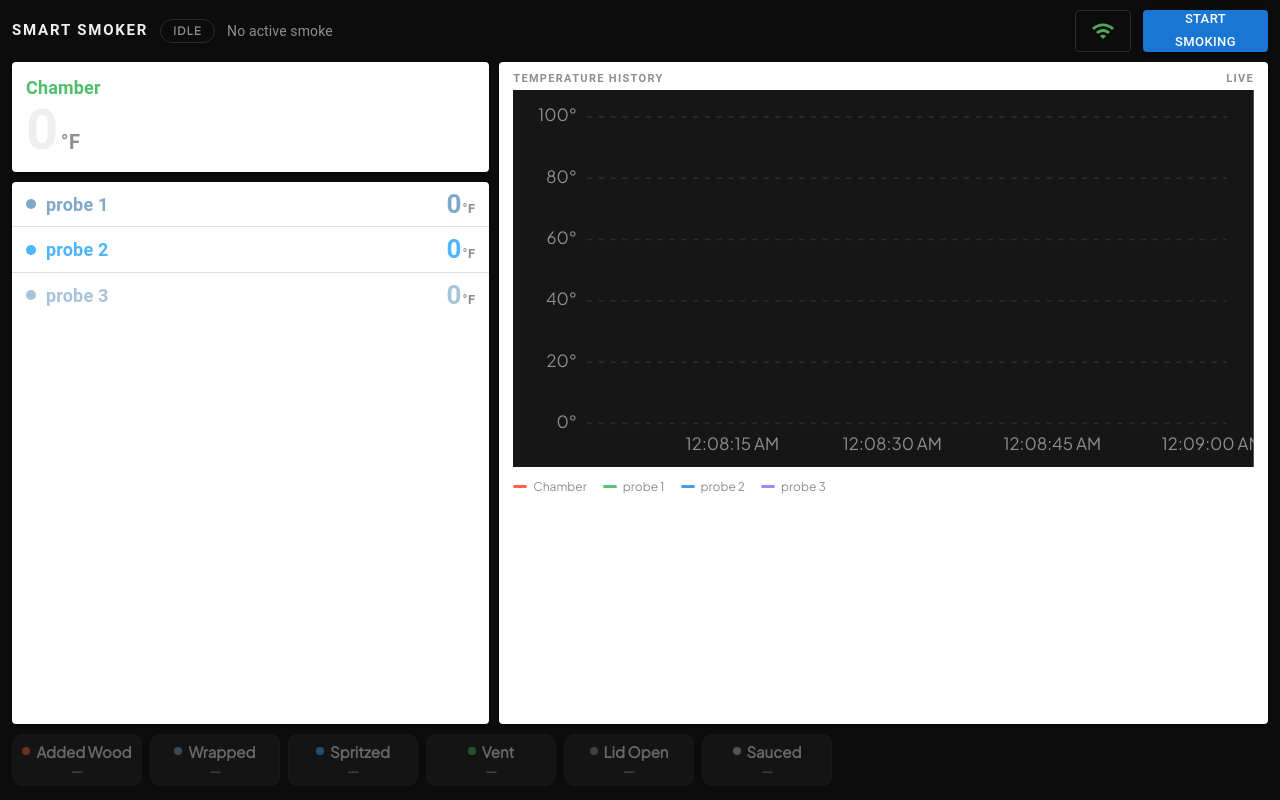
Test case: Home — starting a cook over an auto-stopped one › asks before lighting the smoker, and lights nothing until it is answered
Click the button "Start Smoking": (1206, 31) [1143,10,1268,52]
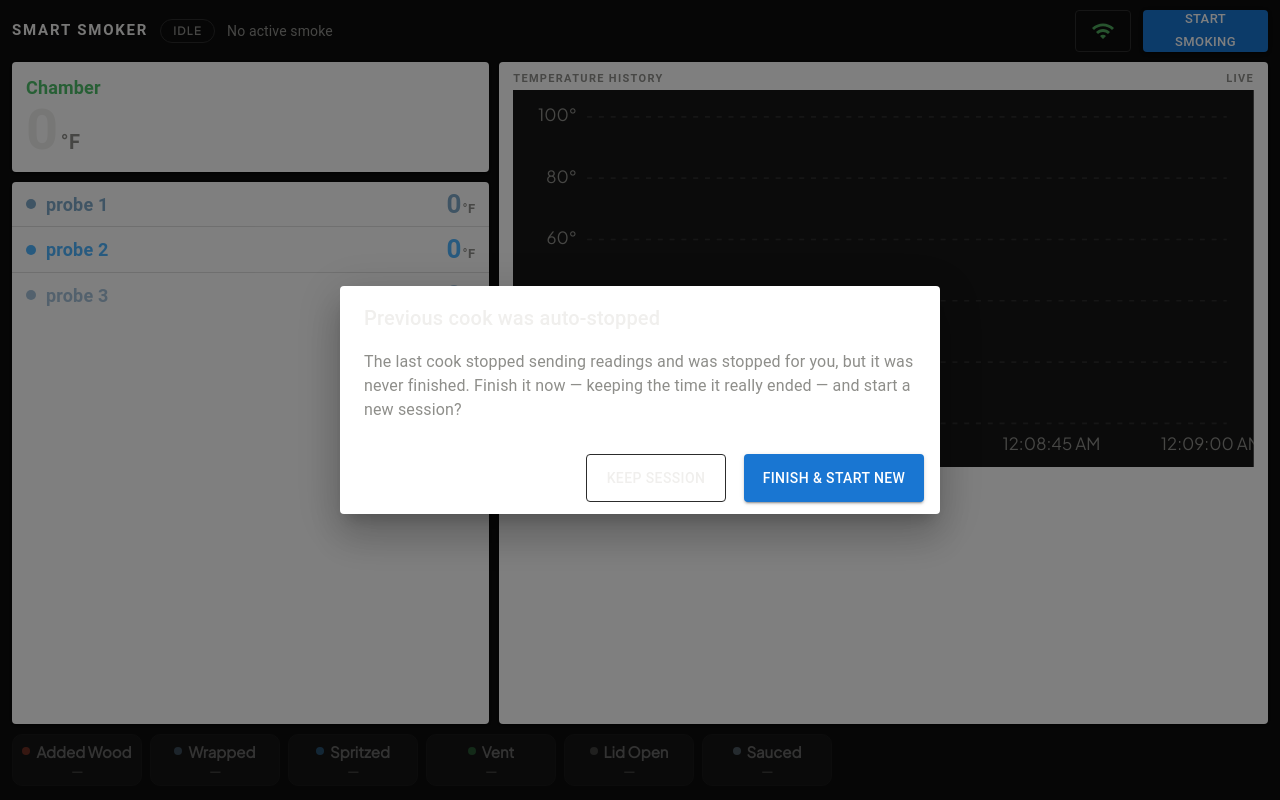
expect the dialog with test id "stale-cook-dialog" is shown: met, box [340,286,940,514]
